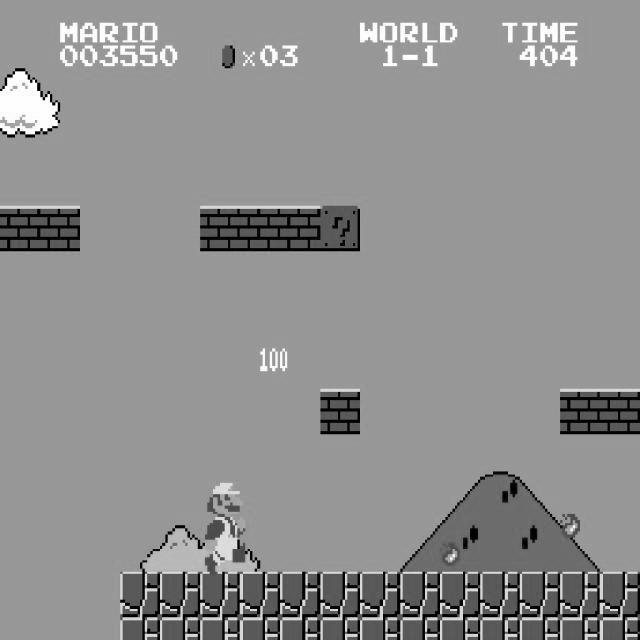1- brick_block: (599, 388, 640, 434), (0, 205, 40, 251), (320, 388, 360, 434), (560, 388, 600, 434), (40, 206, 80, 251), (200, 206, 240, 251), (240, 206, 280, 251), (280, 206, 320, 251)
13- mystery_block: (320, 206, 360, 251)
17- undestructible_block: (599, 571, 640, 617), (120, 572, 160, 618), (160, 572, 200, 618), (200, 572, 240, 618), (240, 572, 280, 618), (280, 572, 320, 618), (320, 572, 360, 618), (360, 572, 400, 618), (400, 572, 440, 618), (440, 572, 480, 618), (480, 572, 520, 618), (520, 572, 560, 618), (560, 572, 600, 618), (120, 617, 160, 640), (160, 617, 200, 640), (200, 617, 240, 640), (240, 617, 280, 640), (280, 617, 320, 640), (320, 617, 360, 640), (360, 617, 400, 640), (400, 617, 440, 640), (440, 617, 480, 640), (480, 617, 520, 640), (520, 617, 560, 640), (560, 617, 600, 640), (599, 617, 640, 639)
4- fire_mario: (202, 480, 245, 574)
5- fireball: (560, 511, 580, 537), (440, 540, 460, 566)
